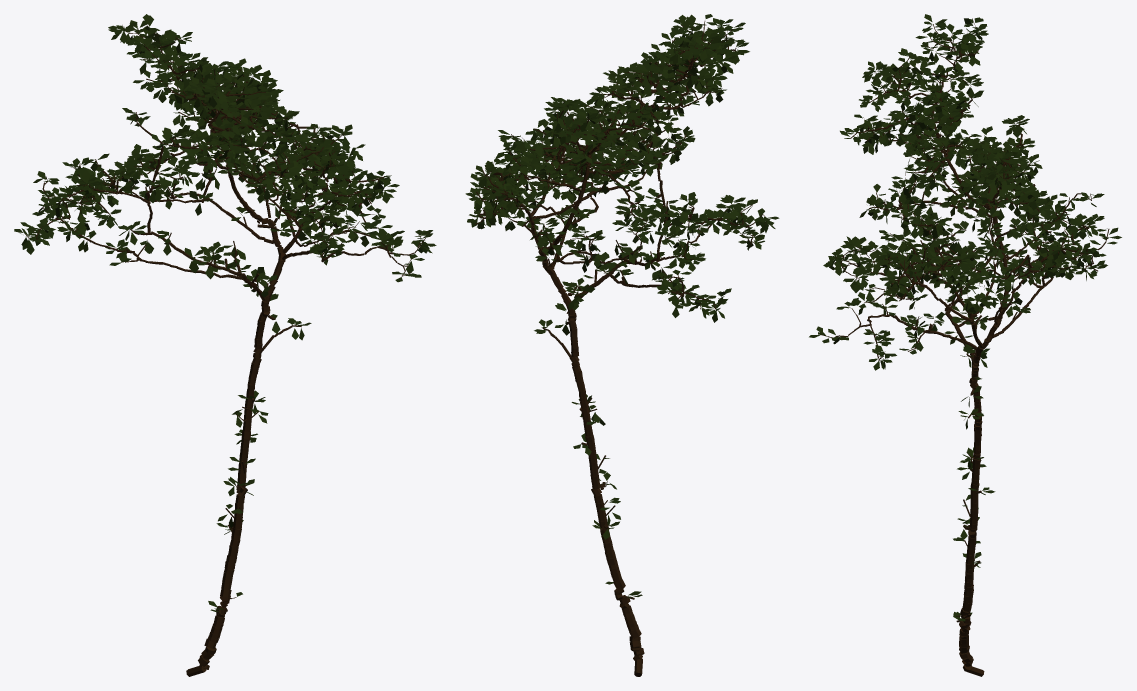
File: tree_349.obj
3 views of the same model, side by side, from view 1: azimuth 30°, elevation 25°; view 2: azimuth 150°, elevation 25°; view 3: azimuth 270°, elevation 25° (orthographic). The views are drawn at different scales.
Parts seen in each view (by area): view 1: Leaves, TrunkAndBranches; view 2: Leaves, TrunkAndBranches; view 3: Leaves, TrunkAndBranches.
Boxes of the visible parts, <box> form: Leaves: <box>14,14,436,611</box>; TrunkAndBranches: <box>24,24,425,676</box>; Leaves: <box>465,14,779,597</box>; TrunkAndBranches: <box>475,21,766,676</box>; Leaves: <box>809,14,1121,621</box>; TrunkAndBranches: <box>821,18,1109,676</box>.
Size of the model in its own units: 8.05 by 15.62 by 7.1.
